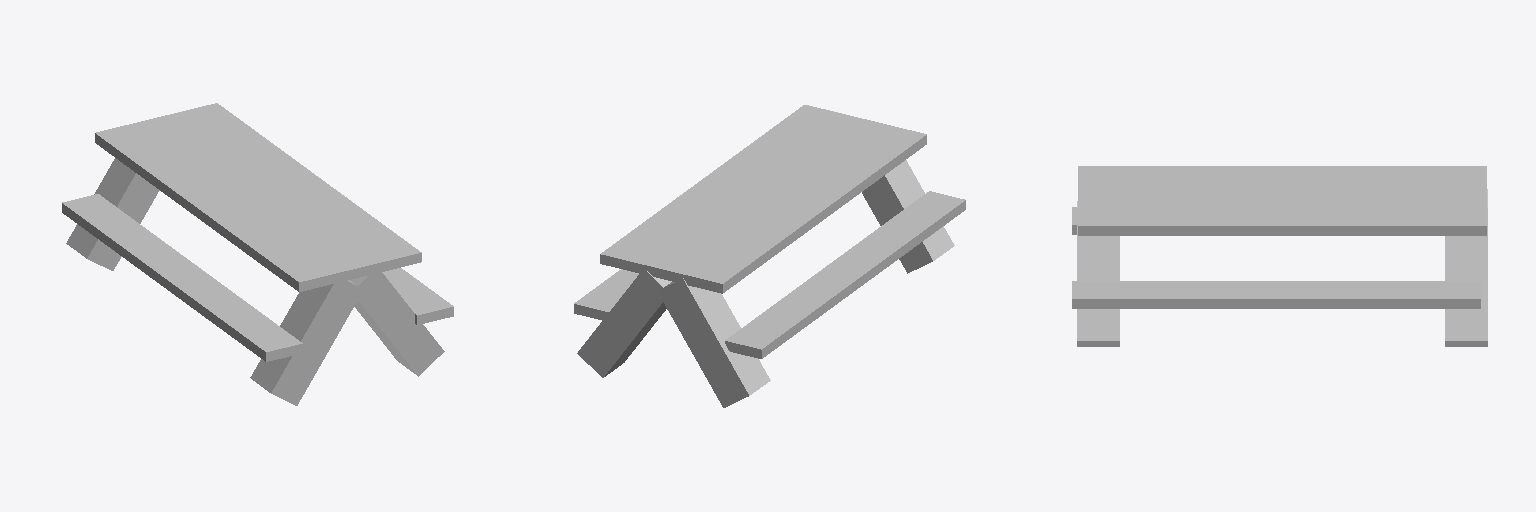
Rendered from bench.obj.
3 renders of one model, left to right at view 1: azimuth 30°, elevation 25°; view 2: azimuth 150°, elevation 25°; view 3: azimuth 270°, elevation 25°, orthographic.
Parts seen in each view (by area): view 1: Cube.006; view 2: Cube.006; view 3: Cube.006.
Boxes of the visible parts, <box> form: Cube.006: <box>62,103,453,405</box>; Cube.006: <box>574,105,965,407</box>; Cube.006: <box>1072,166,1487,346</box>.
Bounding box in the file's own units: 3.2 × 2.01 × 6.15.